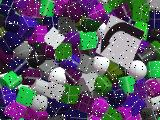Left: (95, 14, 145, 70)
